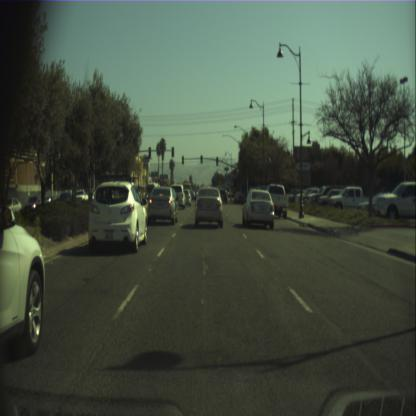Green: (216, 156, 219, 166), (200, 154, 202, 164), (242, 171, 244, 178)
Yellow: (182, 155, 184, 164)
off: (148, 147, 150, 157)
